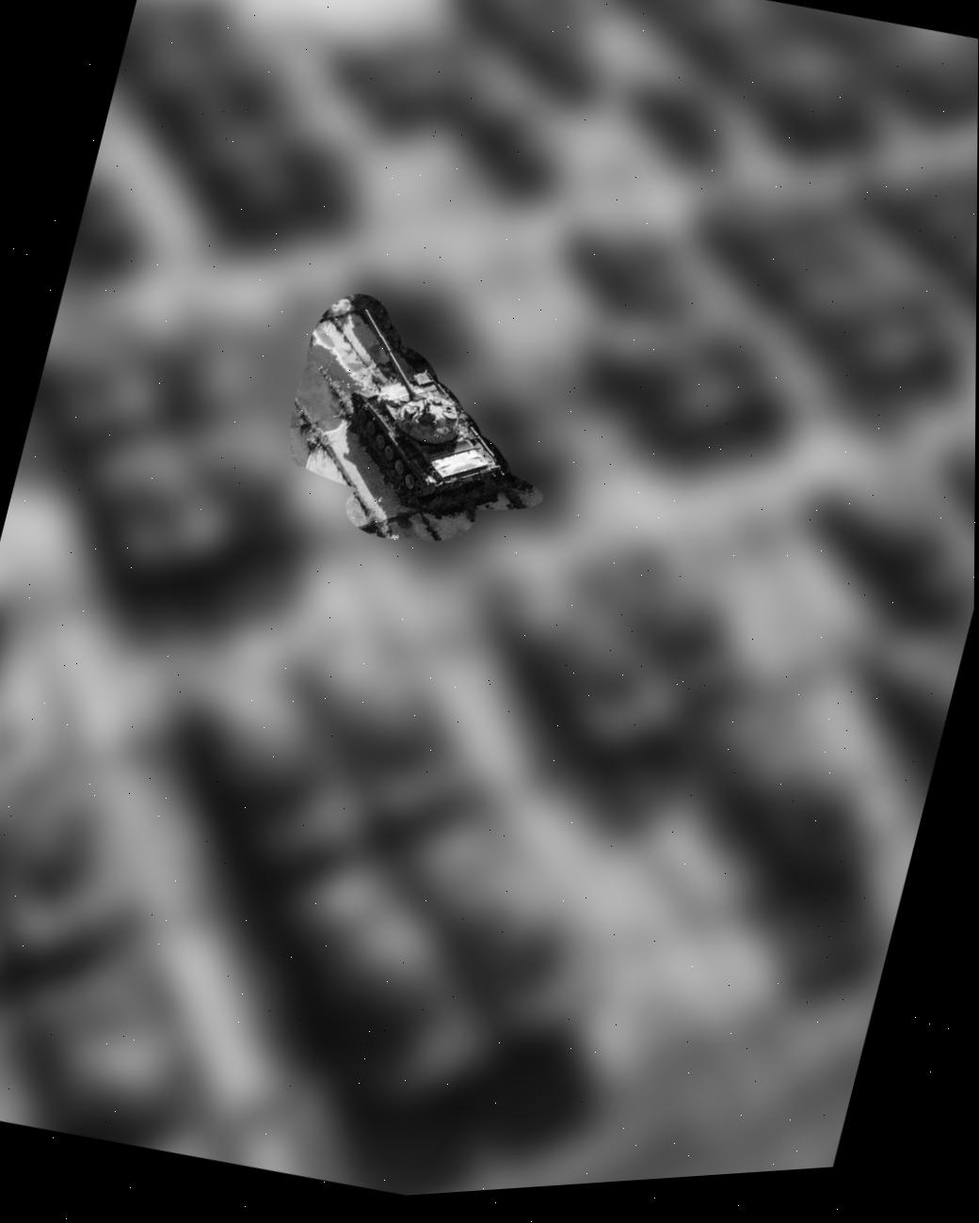tank: (301, 285, 552, 542)
